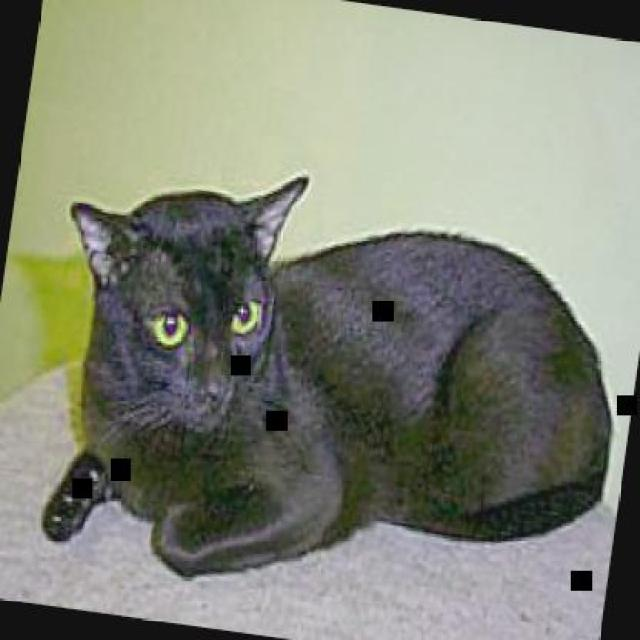cat: (20, 143, 638, 637)
